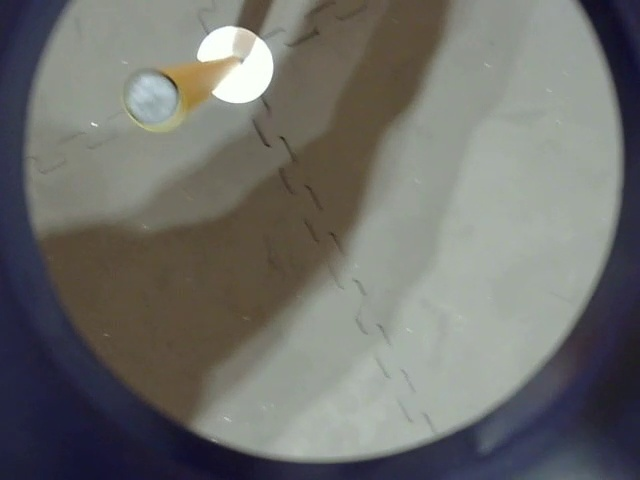cone: (117, 63, 198, 130)
